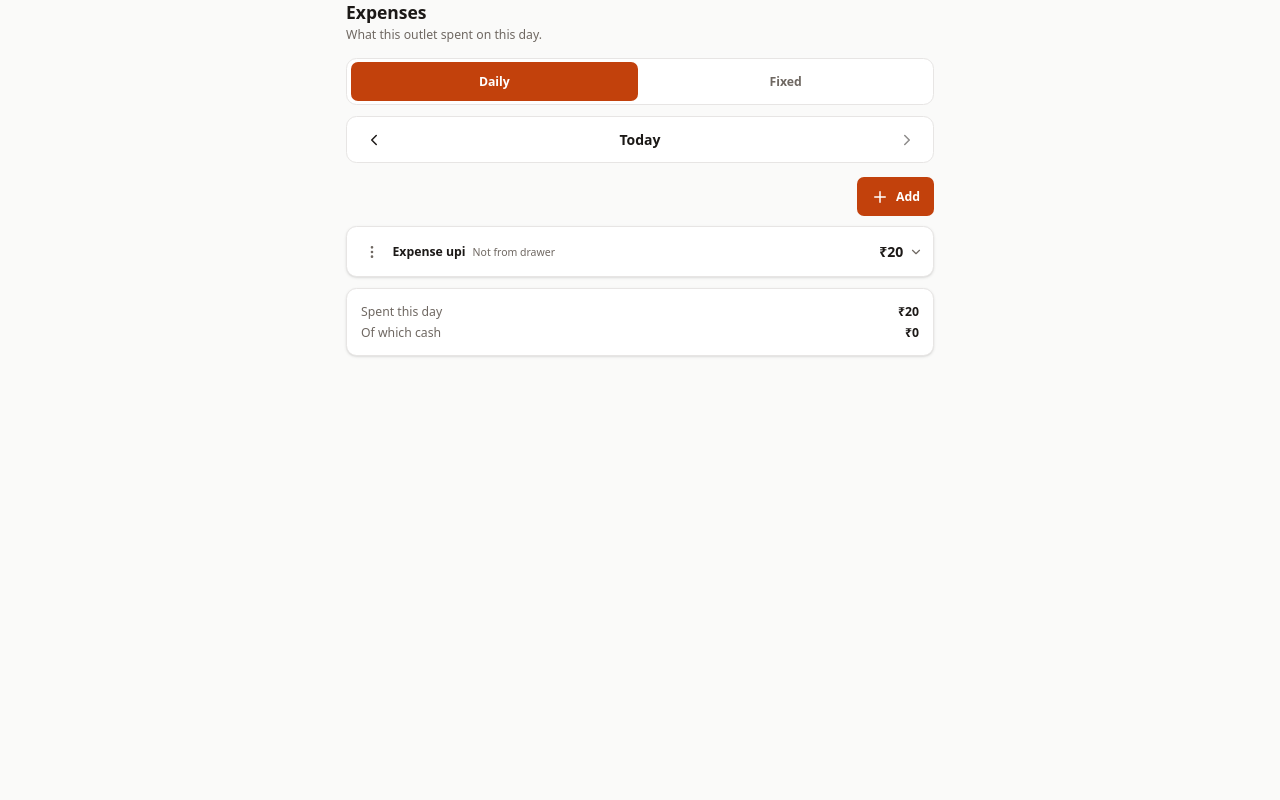
Test: the outlet expenses surface › opens a correction on the method the expense already has
Click the button named "Actions for Expense upi" at [372, 252], box [364,244,380,260]
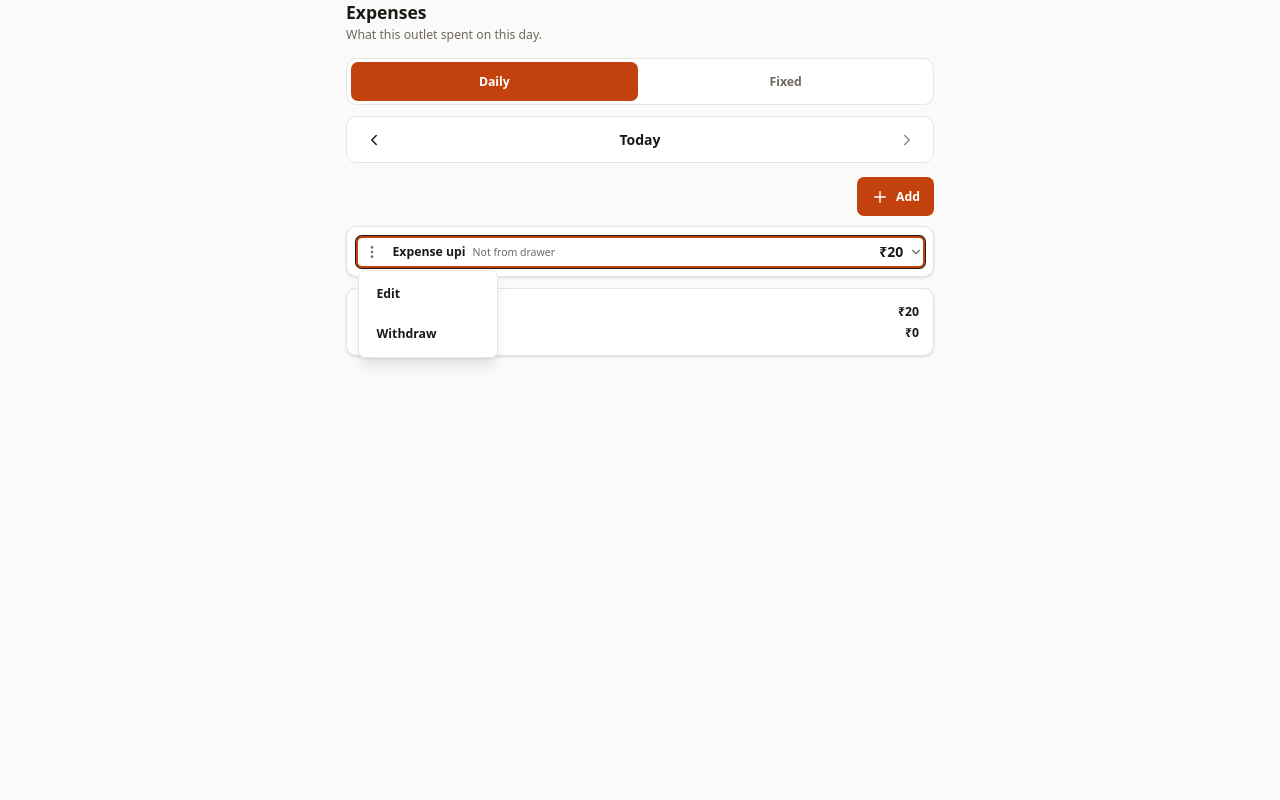
Click the button with test id "edit-expense-upi" at [428, 294], box [362,274,494,313]
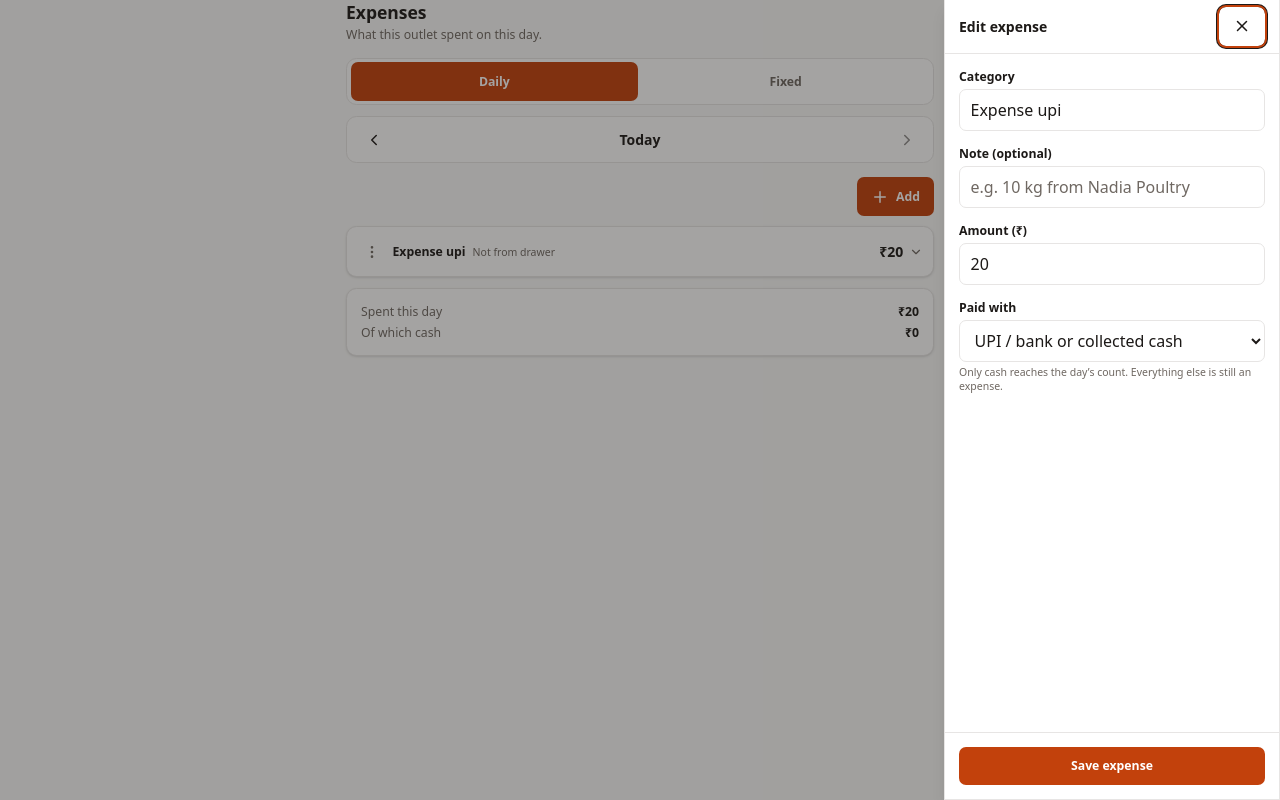
Check: the dropdown with test id "expense-is-cash" shows "UPI / bank or collected cash", box [959,320,1265,362]
